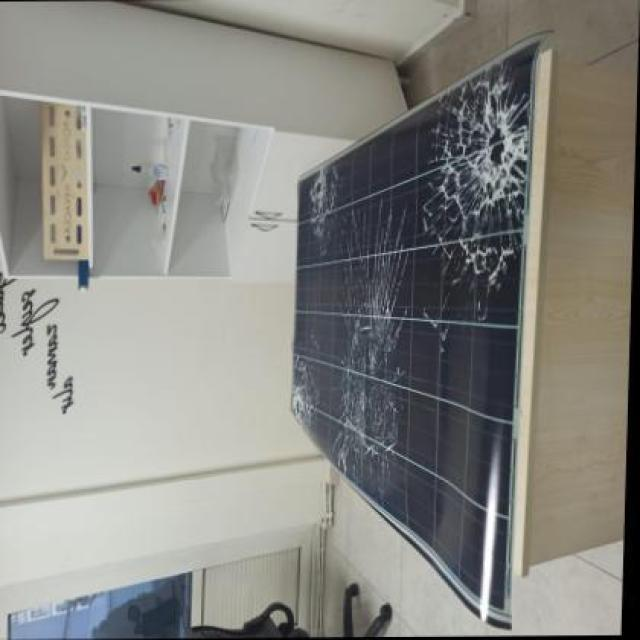cracked: (282, 53, 514, 612)
